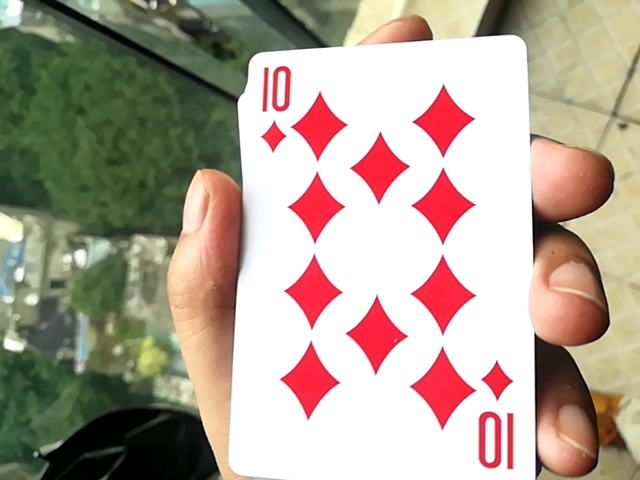fk 10: (216, 23, 537, 479)
